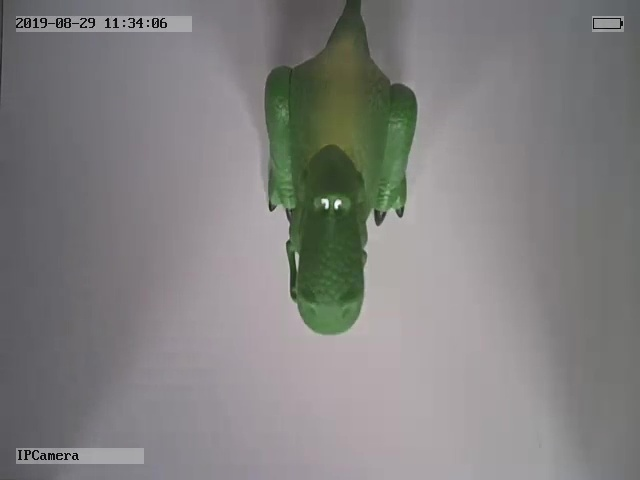rex: (258, 1, 423, 339)
